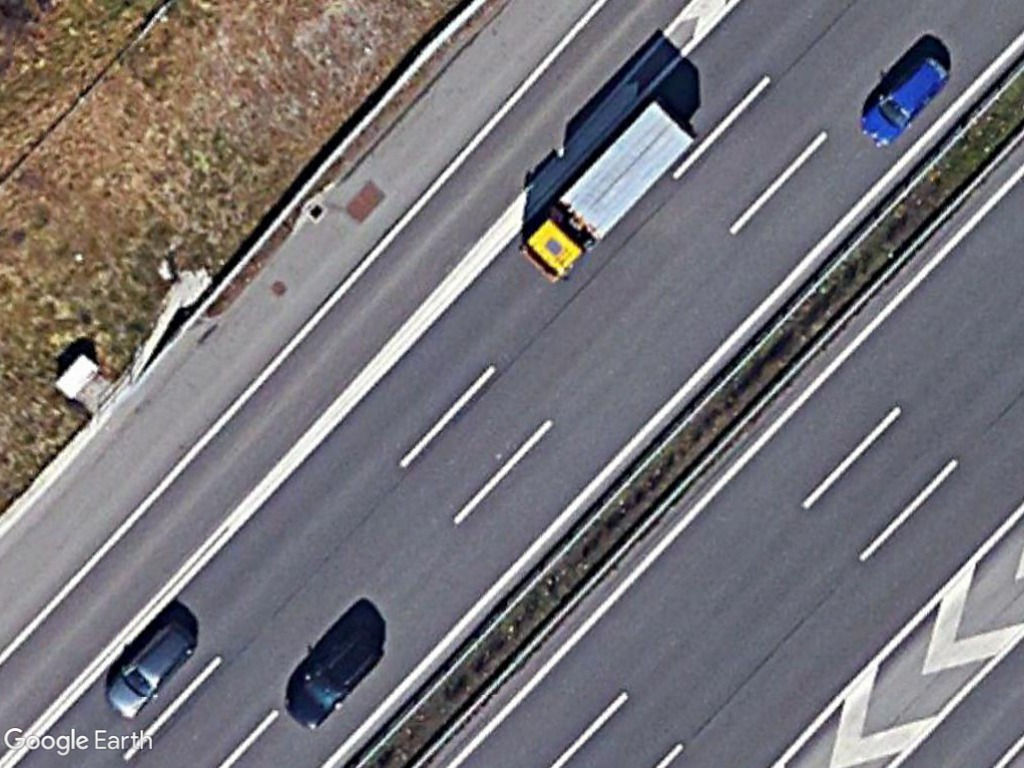car: (103, 617, 200, 720), (288, 633, 388, 727), (859, 57, 951, 146)
truck: (521, 98, 706, 280)
